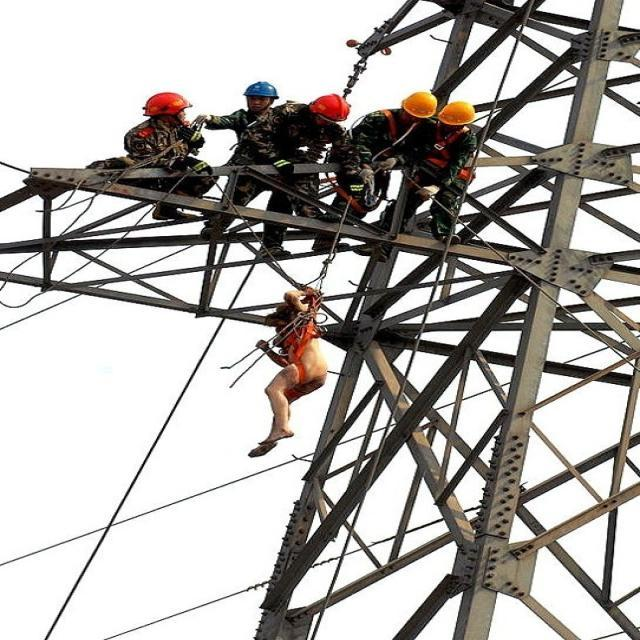non-critical vegetation: (25, 15, 618, 562)
